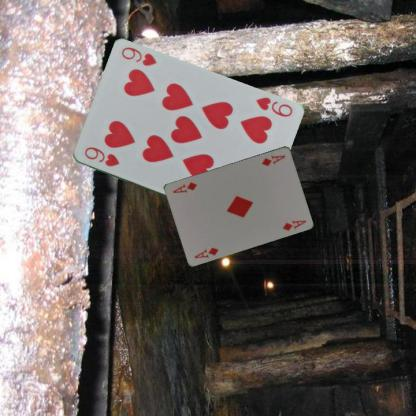9h: (252, 95, 294, 118), (81, 145, 121, 168)
Ad: (192, 244, 219, 260), (260, 153, 286, 167)
